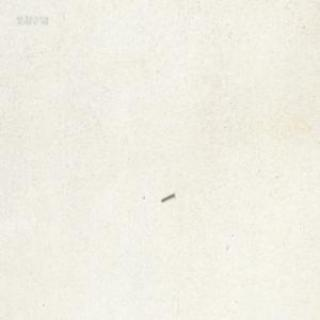Bolttrack_idkeyframe: (159, 191, 174, 202)
